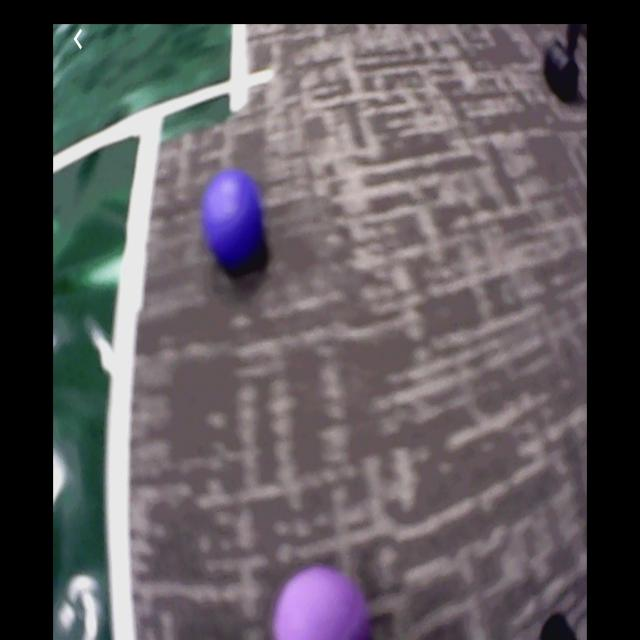ball: (275, 568, 368, 640), (203, 173, 261, 266)
